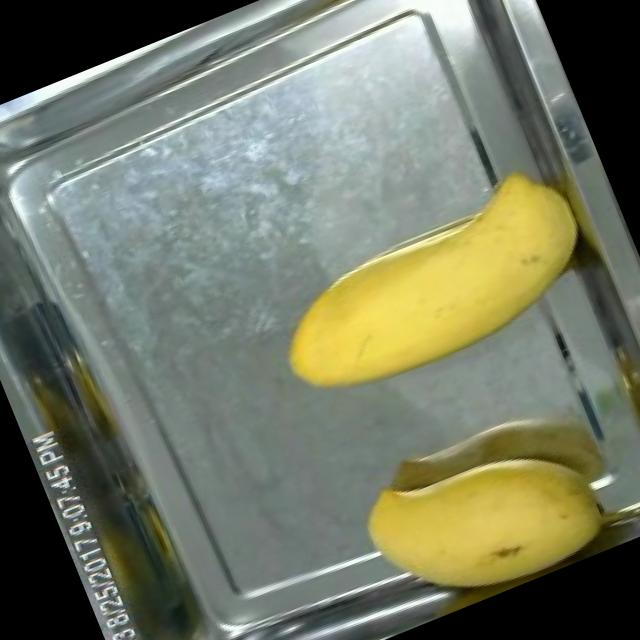fruit: (245, 155, 616, 424), (348, 410, 624, 632)
